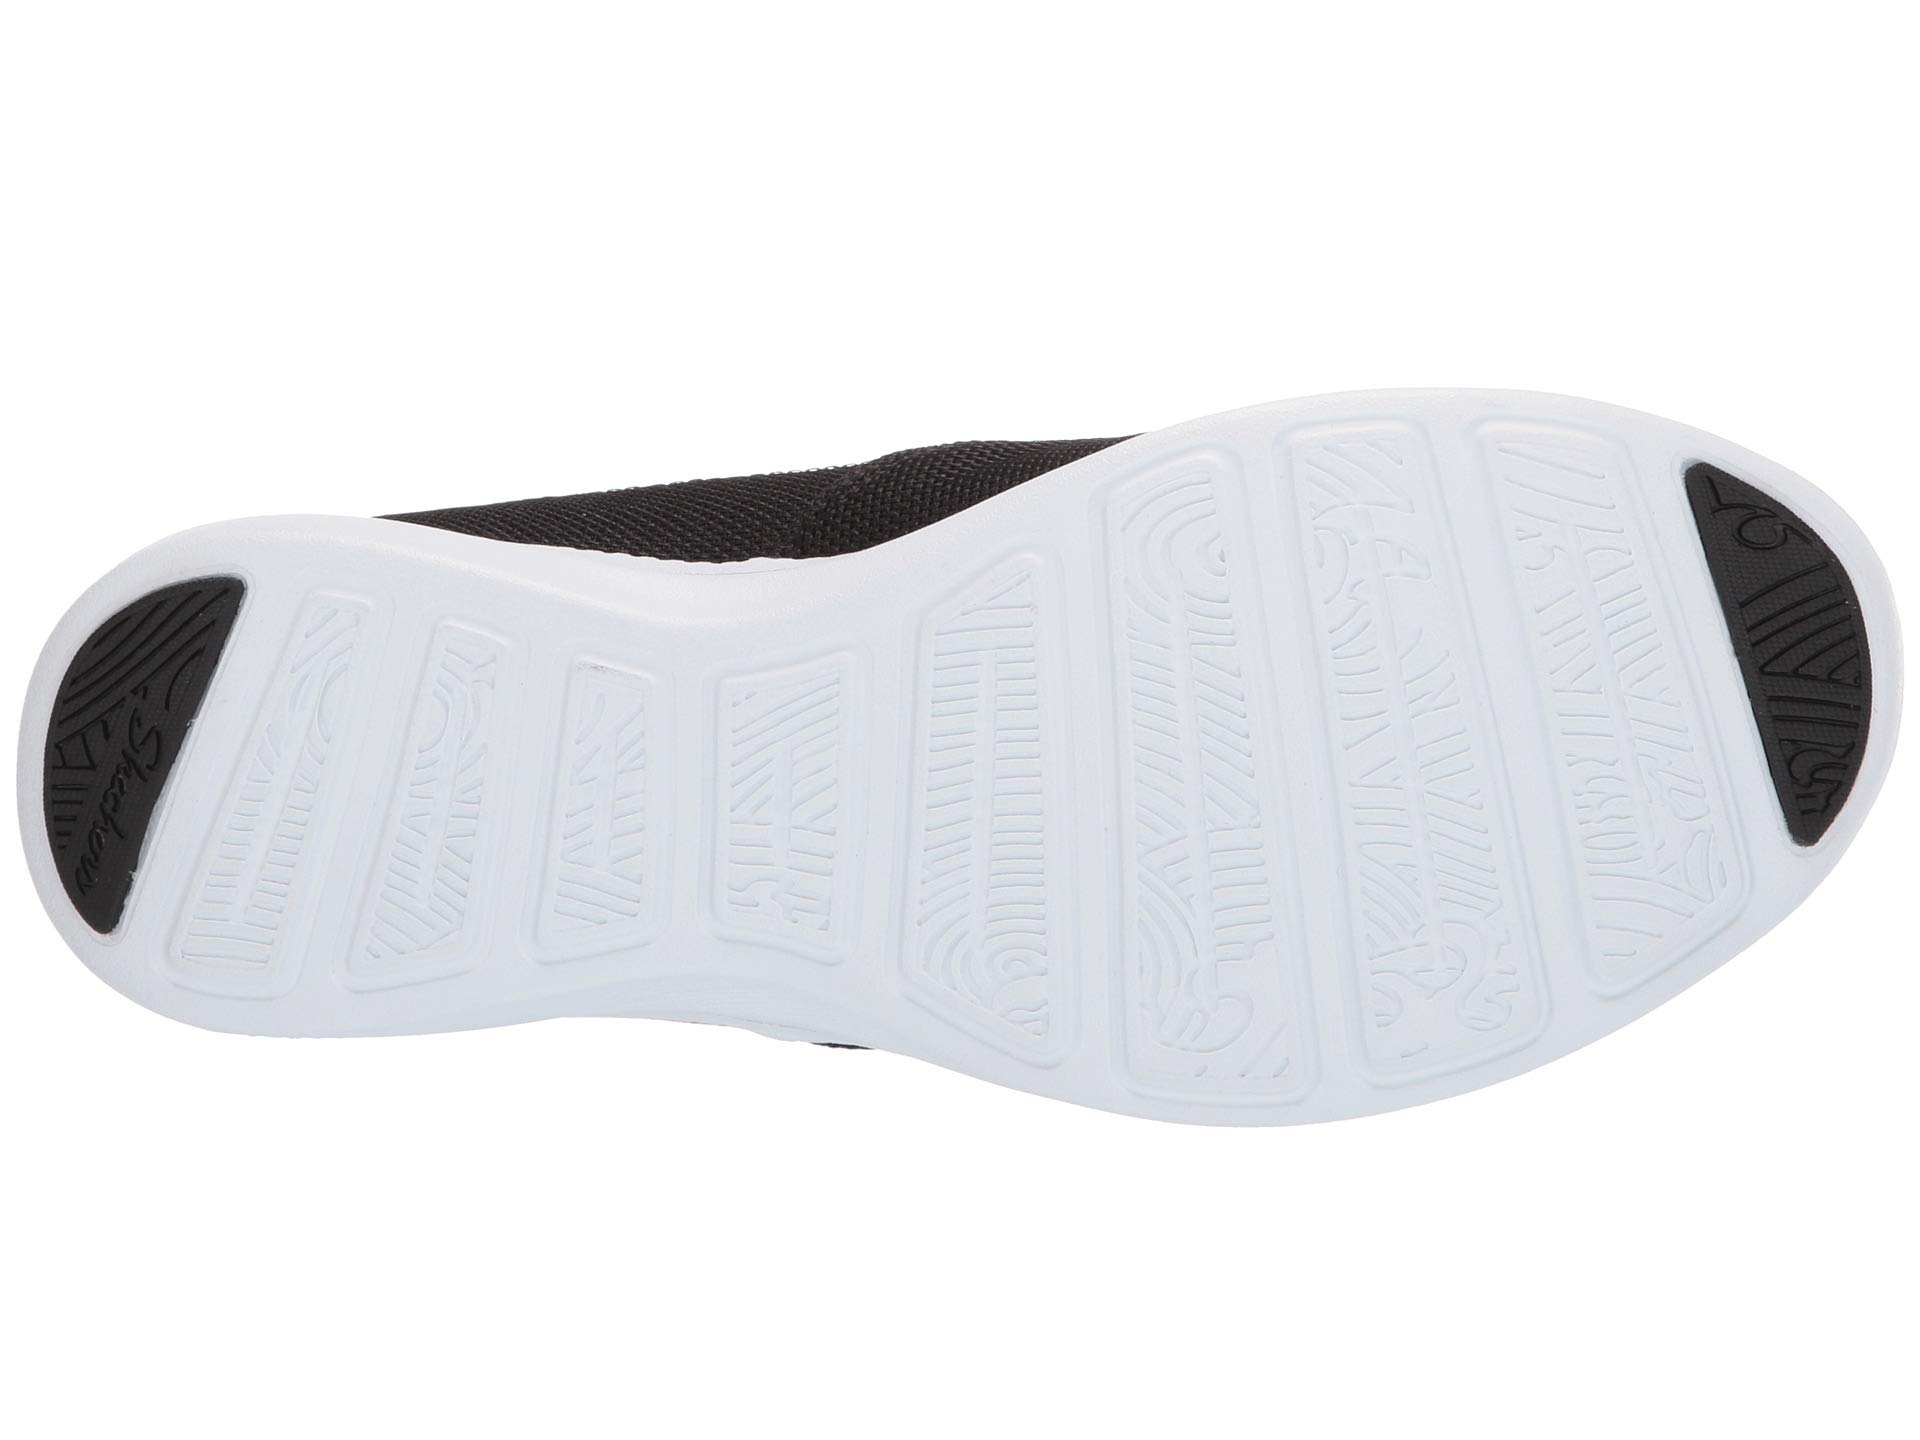line: (1076, 620, 1519, 971)
quad: (1076, 620, 1519, 971), (497, 610, 892, 986)
